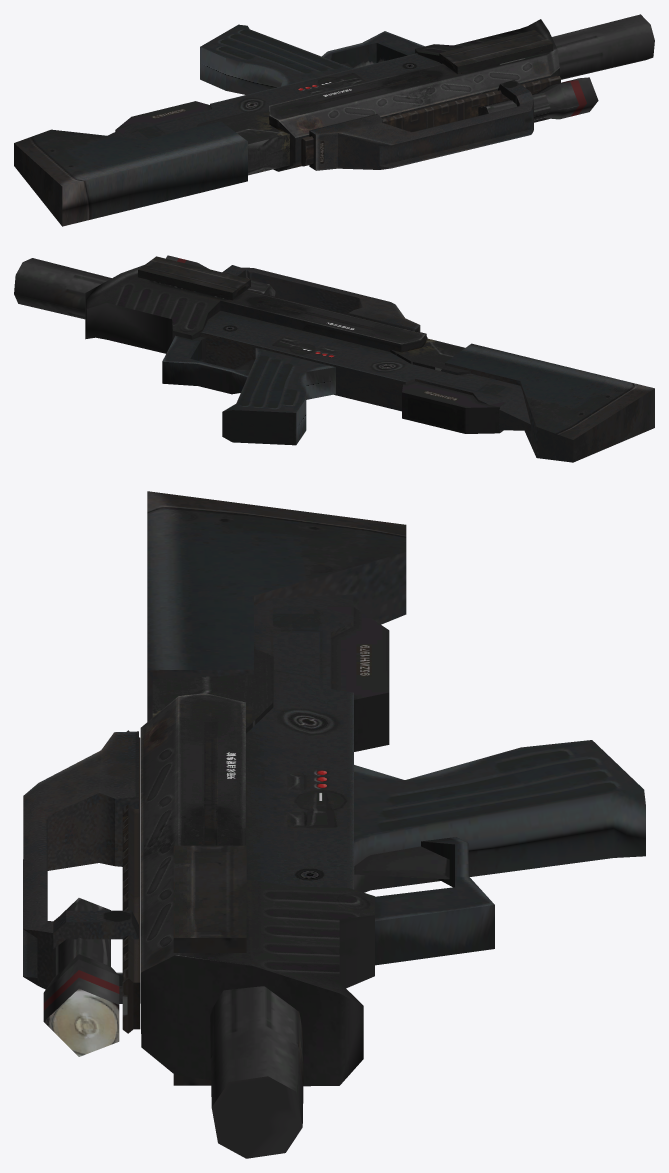
The model's file is t6_wpn_smg_chicom_world_LOD1.obj.
3 views of the same model, one above another, from view 1: azimuth 30°, elevation 25°; view 2: azimuth 150°, elevation 25°; view 3: azimuth 270°, elevation 25° (orthographic). The views are drawn at different scales.
Parts seen in each view (by area): view 1: mtl_t6_wpn_smg_chicom_camo1, mtl_t6_wpn_smg_chicom_camo3, mtl_t6_wpn_smg_chicom_camo2, mtl_t6_wpn_smg_chicom_camo4; view 2: mtl_t6_wpn_smg_chicom_camo1, mtl_t6_wpn_smg_chicom_camo3, mtl_t6_wpn_smg_chicom_camo2; view 3: mtl_t6_wpn_smg_chicom_camo1, mtl_t6_wpn_smg_chicom_camo3, mtl_t6_wpn_smg_chicom_camo2, mtl_t6_wpn_smg_chicom_camo4.
Boxes of the visible parts, x1=… form: mtl_t6_wpn_smg_chicom_camo1: x1=14, y1=19, x2=559, y2=226; mtl_t6_wpn_smg_chicom_camo3: x1=14, y1=14, x2=654, y2=226; mtl_t6_wpn_smg_chicom_camo2: x1=108, y1=24, x2=567, y2=166; mtl_t6_wpn_smg_chicom_camo4: x1=278, y1=55, x2=550, y2=171; mtl_t6_wpn_smg_chicom_camo1: x1=85, y1=265, x2=654, y2=462; mtl_t6_wpn_smg_chicom_camo3: x1=14, y1=255, x2=654, y2=462; mtl_t6_wpn_smg_chicom_camo2: x1=149, y1=263, x2=530, y2=445; mtl_t6_wpn_smg_chicom_camo1: x1=23, y1=491, x2=406, y2=1086; mtl_t6_wpn_smg_chicom_camo3: x1=43, y1=605, x2=643, y2=1158; mtl_t6_wpn_smg_chicom_camo2: x1=44, y1=594, x2=645, y2=1056; mtl_t6_wpn_smg_chicom_camo4: x1=140, y1=696, x2=178, y2=973.
Size of the model in its own units: 50.25 by 5.89 by 22.52.
